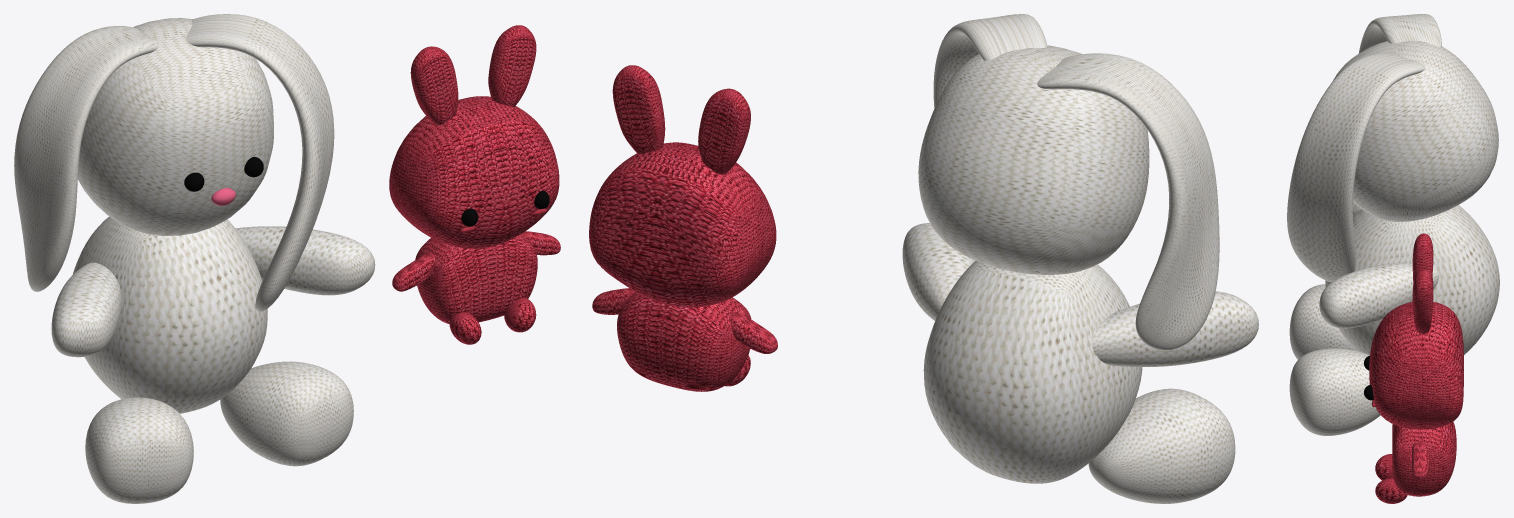
File: toys.glb
3 renders of one model, left to right at view 1: azimuth 30°, elevation 25°; view 2: azimuth 150°, elevation 25°; view 3: azimuth 270°, elevation 25°, orthographic. The views are drawn at different scales.
Parts seen in each view (by area): view 1: Cube.001, Cube.004; view 2: Cube.001, Cube.004; view 3: Cube.001, Cube.004.
Part boxes in pixels (x1,y1,x2,y2): Cube.001: (14, 14, 375, 503); Cube.004: (389, 25, 560, 344); Cube.001: (902, 14, 1258, 503); Cube.004: (589, 65, 777, 391); Cube.001: (1287, 14, 1499, 435); Cube.004: (1364, 233, 1463, 503).
Size of the model in its own units: 2.83 by 2.06 by 1.12.
Materials: 6 (3 with a texture image).
